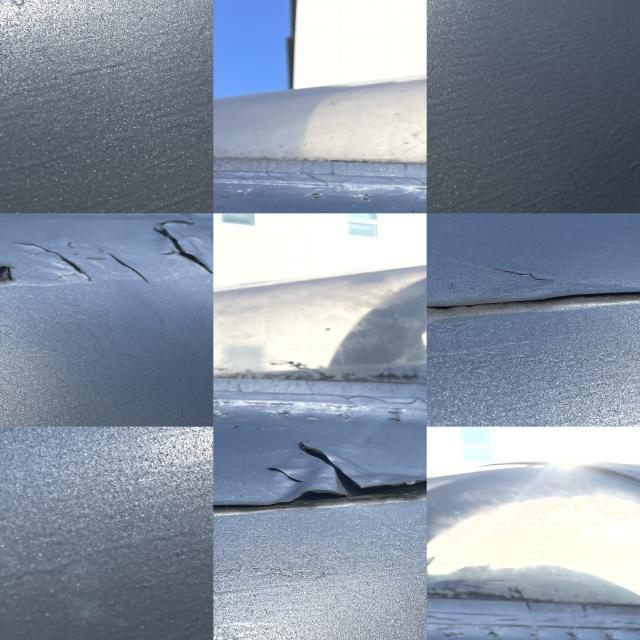crack: (52, 242, 150, 285), (487, 260, 545, 289), (267, 469, 304, 486)
